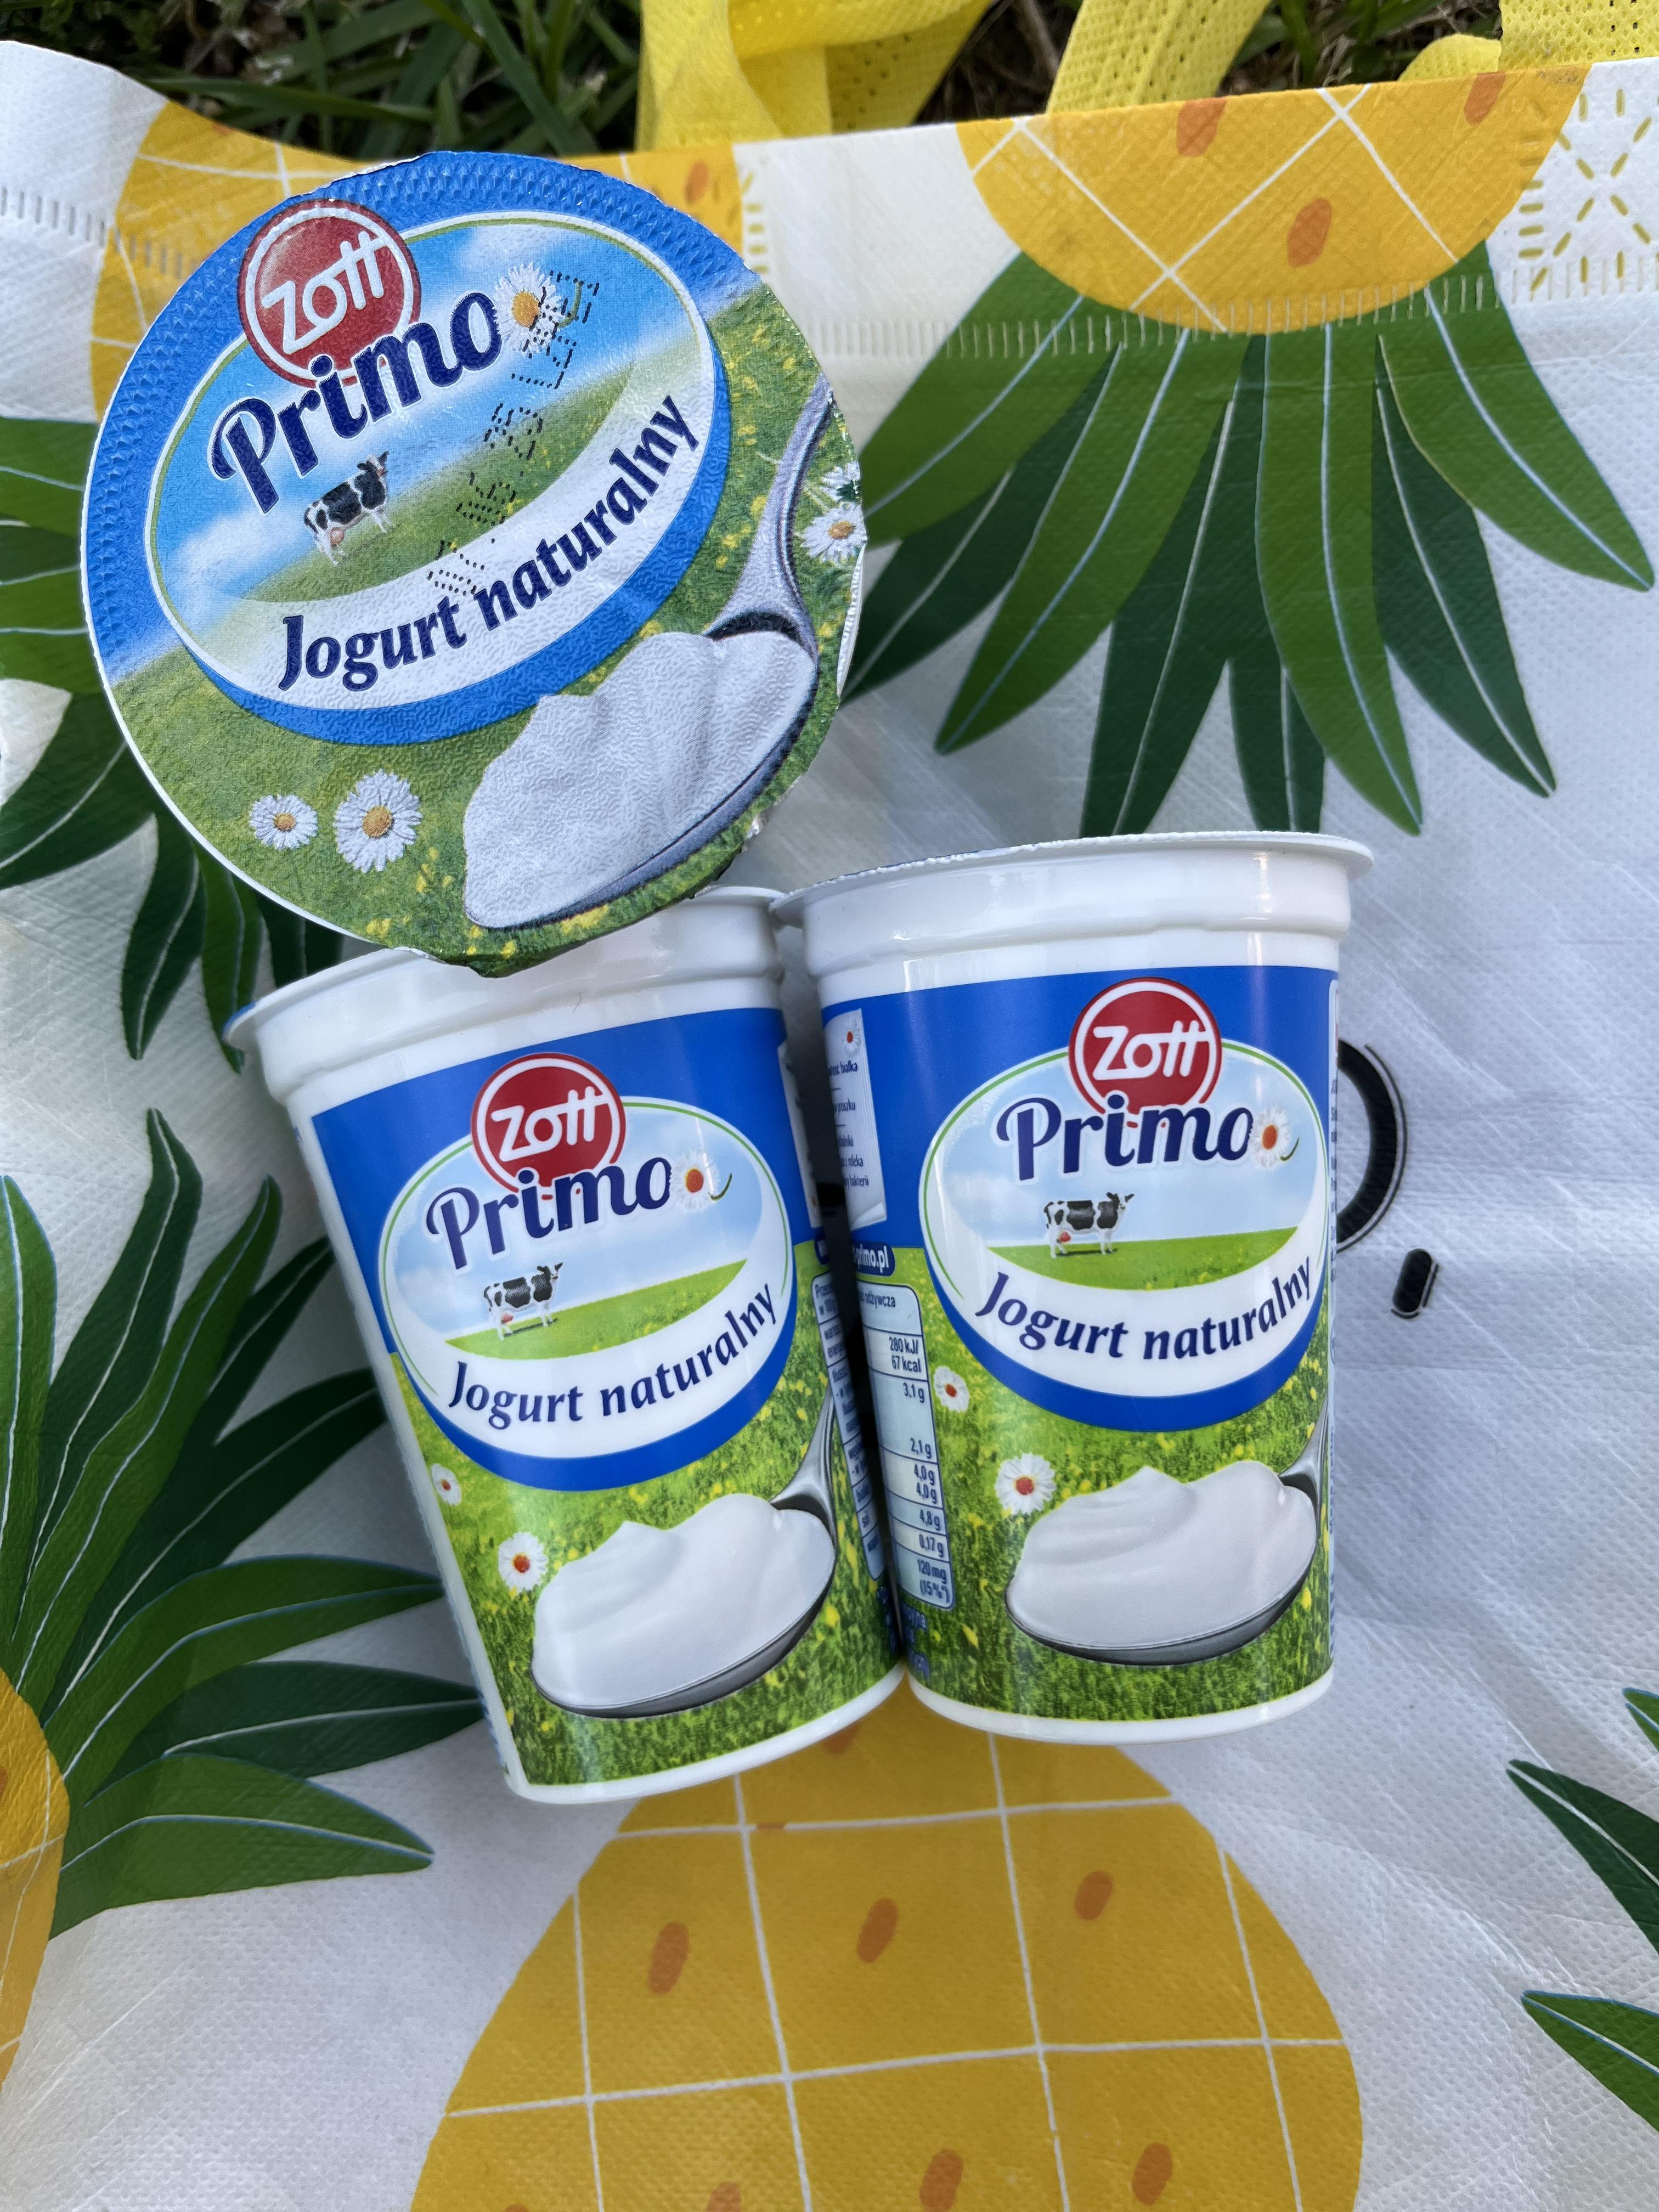Yogurt: (80, 145, 866, 937), (788, 850, 1358, 1735), (310, 927, 894, 1750)
